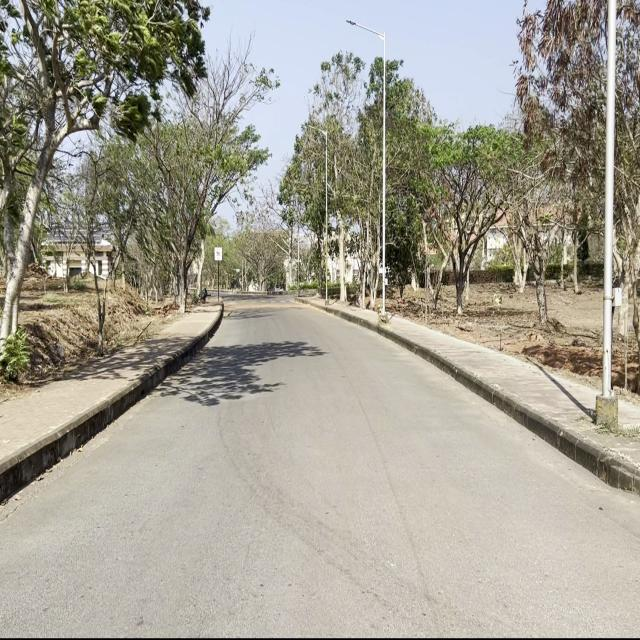Road: (3, 297, 638, 635)
